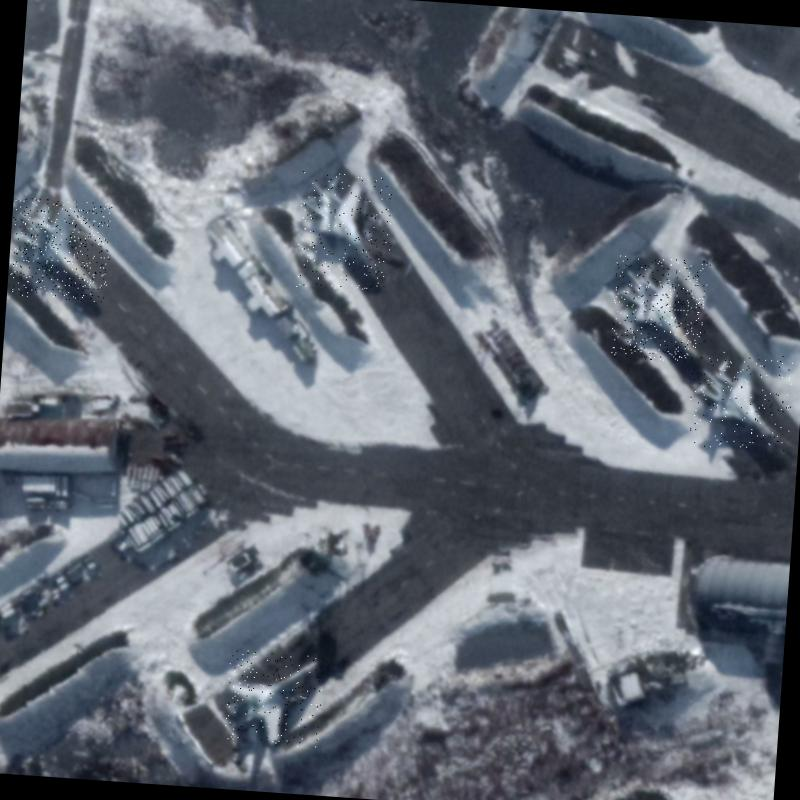A1: (294, 171, 396, 293), (7, 196, 113, 303), (687, 349, 794, 452), (610, 255, 710, 363), (224, 649, 324, 748)
